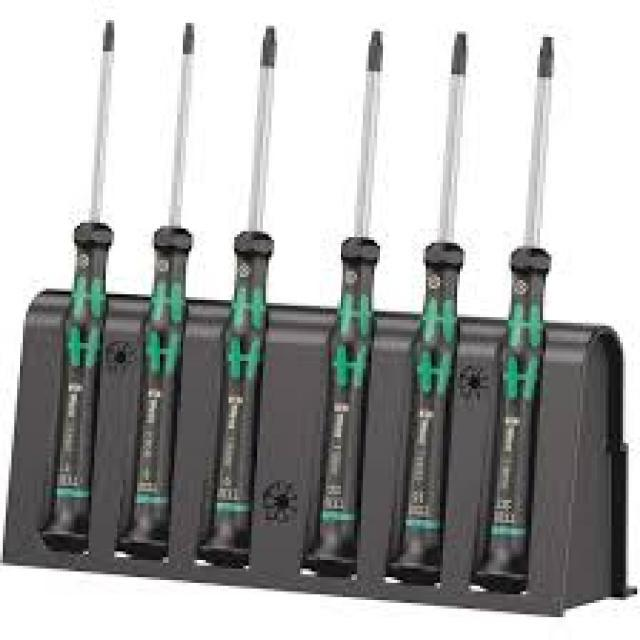screwdriver: (467, 33, 559, 596), (298, 24, 384, 579), (382, 29, 467, 588), (32, 16, 118, 553), (195, 19, 278, 572), (116, 17, 196, 563)
